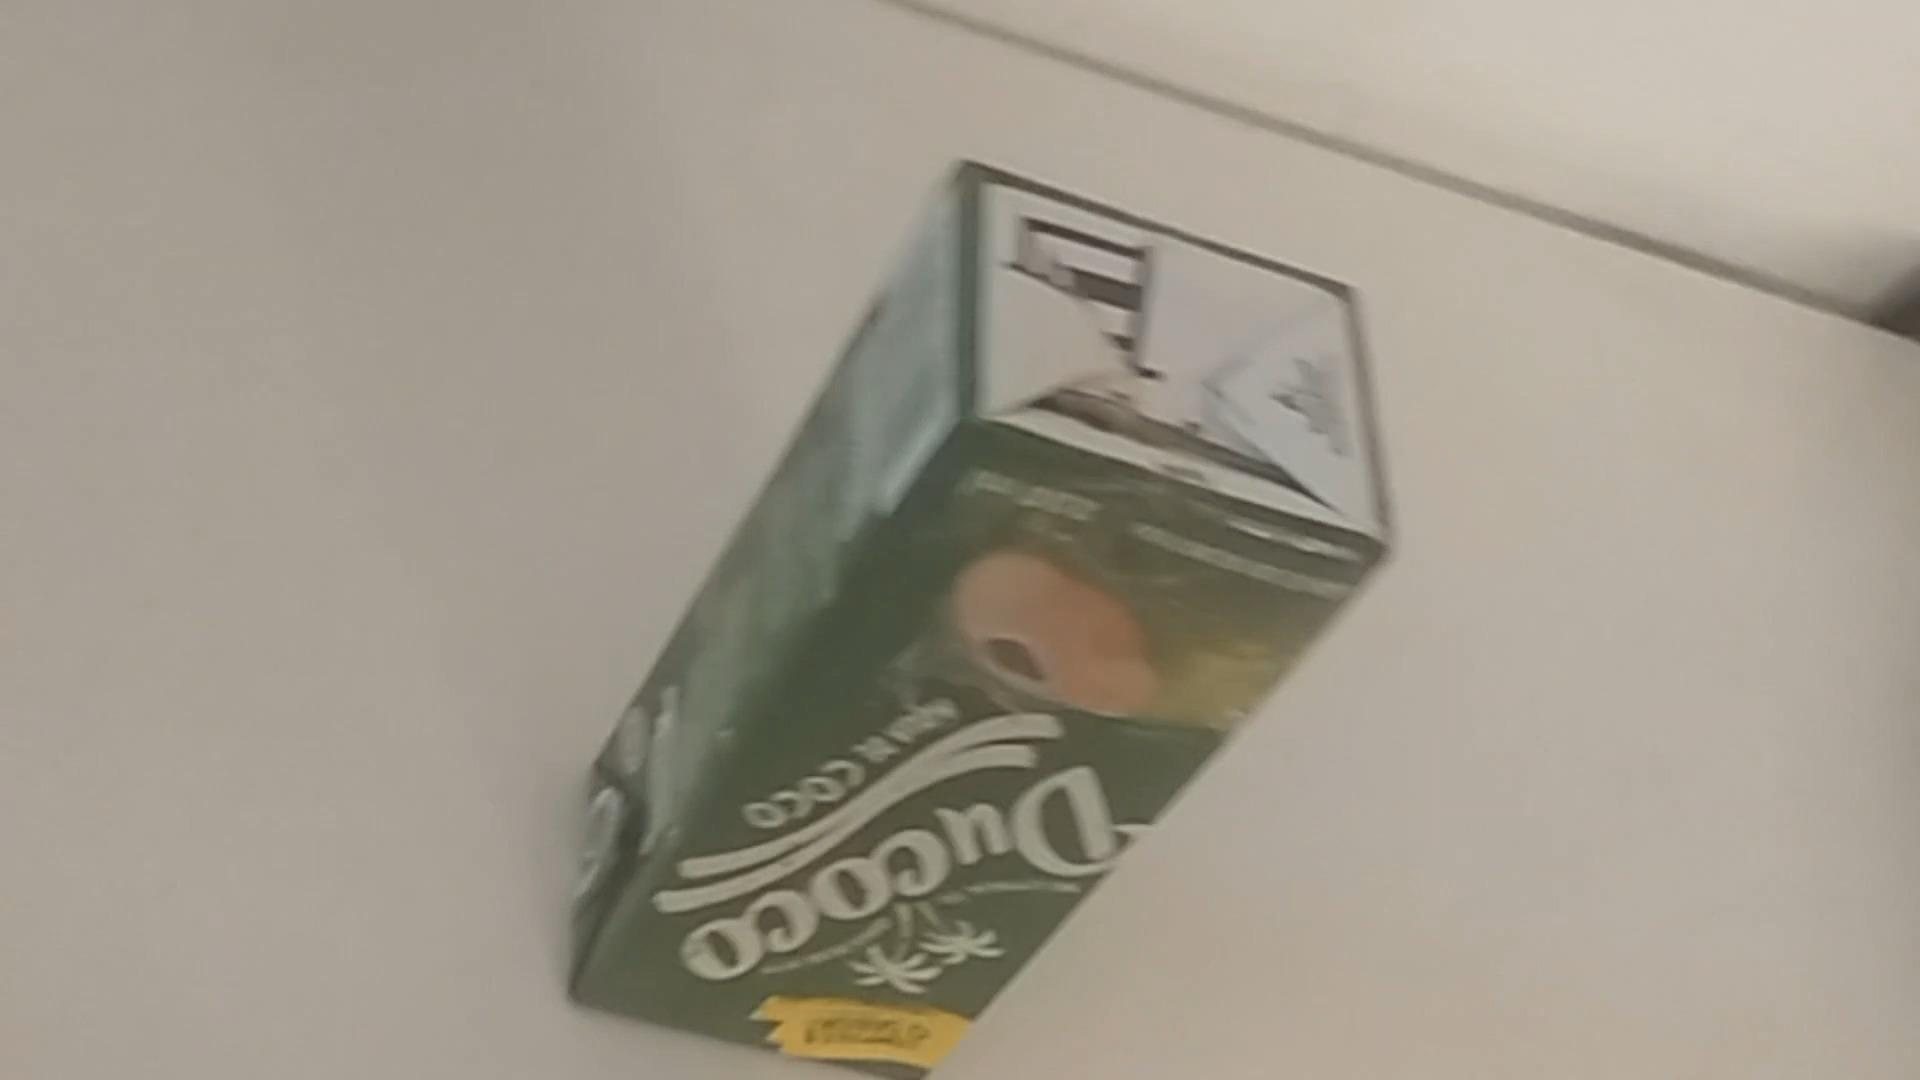coco: (556, 162, 1386, 1080)
